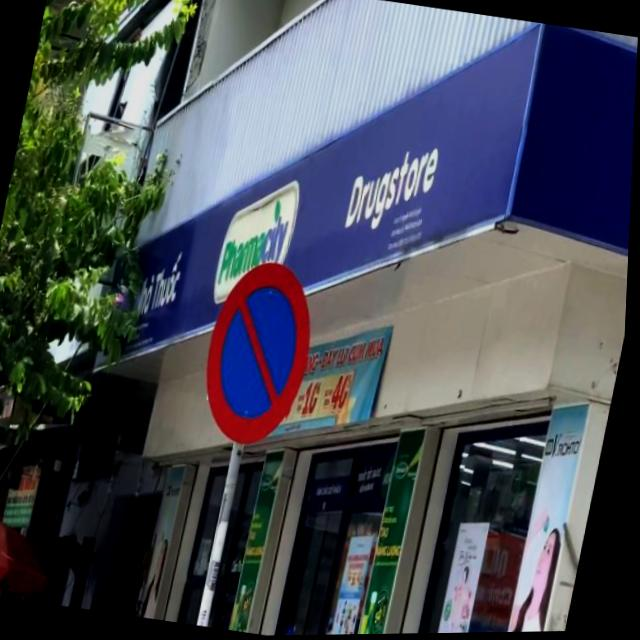Cam do xe: (193, 254, 334, 452)
